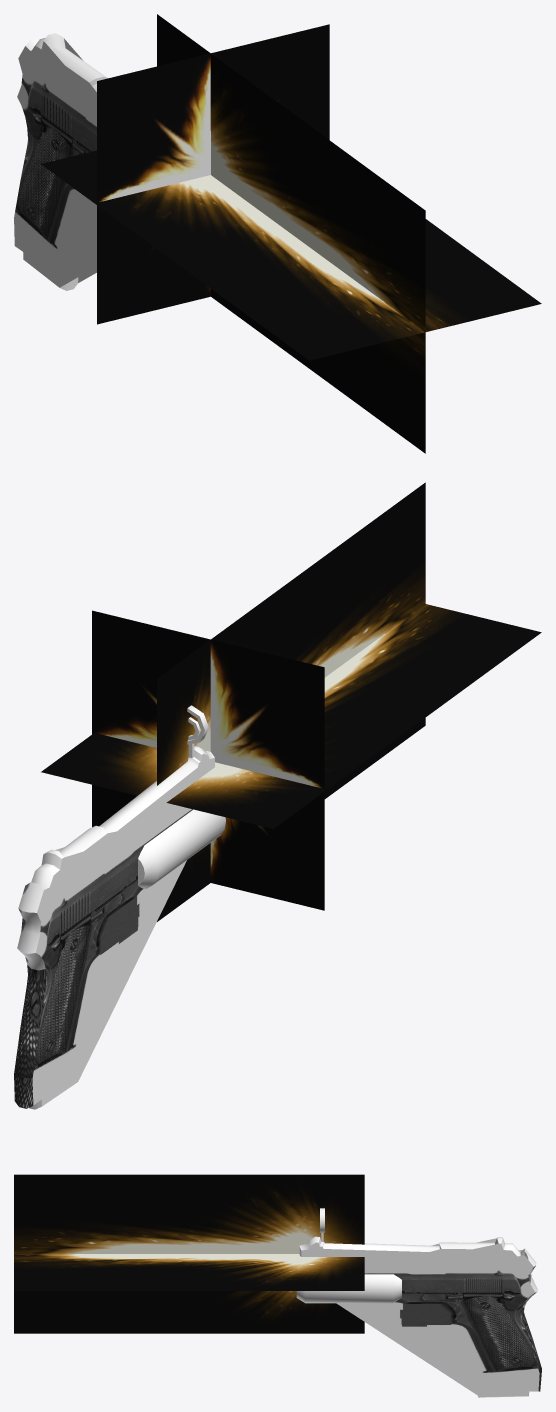
The model's file is player_pistol.FBX.
The picture shows the model from 3 angles, top to bottom: view 1: azimuth 30°, elevation 25°; view 2: azimuth 150°, elevation 25°; view 3: azimuth 270°, elevation 25°; orthographic projection. The views are drawn at different scales.
Visible parts, largest first — view 1: muzzle, pistol; view 2: muzzle, pistol; view 3: muzzle, pistol.
Part boxes in pixels (x1,y1,x2,y2): muzzle: (41, 14, 541, 453); pistol: (14, 33, 107, 290); muzzle: (41, 482, 541, 921); pistol: (14, 705, 225, 1109); muzzle: (14, 1174, 364, 1333); pistol: (296, 1208, 541, 1397).
Size of the model in its own units: 10.11 by 30.1 by 13.96.
